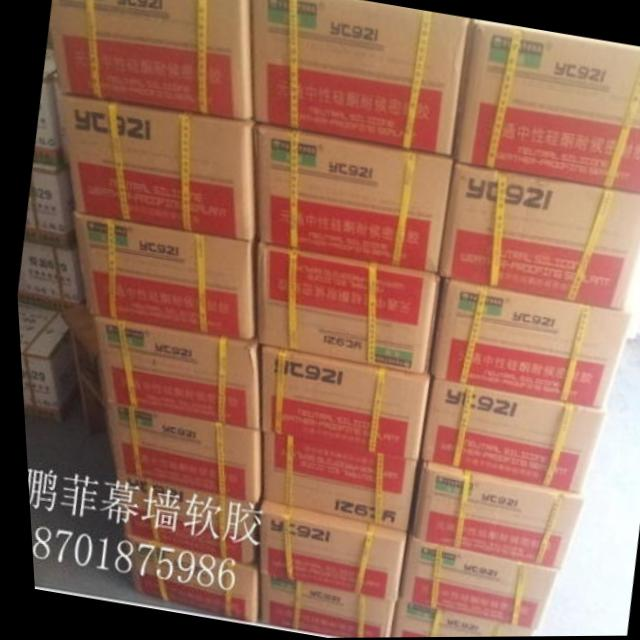box: (250, 0, 467, 156), (449, 18, 640, 194), (434, 161, 640, 312), (250, 118, 449, 274), (58, 92, 250, 240), (426, 277, 624, 409), (48, 0, 251, 121), (249, 243, 434, 373), (71, 211, 252, 339), (412, 375, 598, 495), (253, 342, 425, 459), (87, 317, 253, 431), (404, 462, 577, 571), (253, 431, 411, 532), (100, 405, 255, 504), (251, 505, 398, 605), (393, 541, 552, 633), (118, 541, 250, 624), (114, 491, 250, 562), (251, 574, 389, 638), (14, 303, 77, 420), (14, 236, 82, 309), (382, 605, 527, 638), (21, 161, 75, 247), (31, 47, 59, 163)
